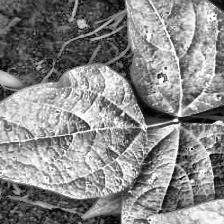ALS: (0, 68, 145, 202), (128, 0, 224, 107)
